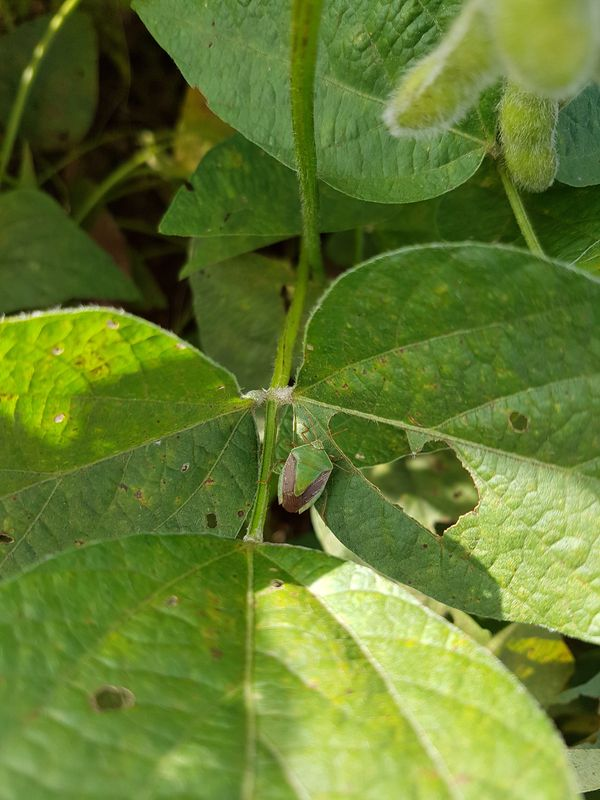Edessa_meditabunda: (264, 412, 356, 527)
